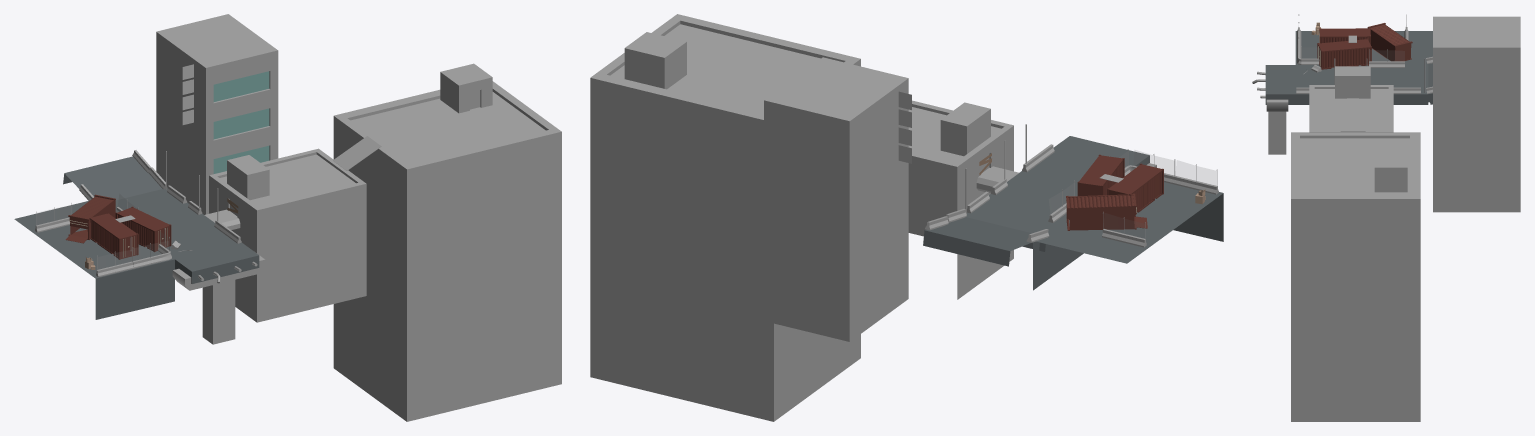
Rendered from bloco defend tut 2.fbx.
3 views of the same model, side by side, from view 1: azimuth 30°, elevation 25°; view 2: azimuth 150°, elevation 25°; view 3: azimuth 270°, elevation 25° (orthographic). The views are drawn at different scales.
Parts seen in each view (by area): view 1: pCube77, pCube86, polySurface85, polySurface34, pCube85, pCube82, polySurface86, pCube149, pCube95, pCube148, teto_container7 (×2), pCube94 (+5 smaller); view 2: pCube77, pCube86, polySurface34, pCube85, polySurface85, pCube82, polySurface86, pCube149, pCube148, teto_container7 (×2), pPlane17, polySurface17 (+5 smaller); view 3: pCube77, pCube86, pCube85, polySurface85, polySurface34, pCube149, pCube148, teto_container7 (×2), pCube95, parede_frente7, polySurface38, teto_container6 (+2 smaller).
Boxes of the visible parts, x1=… form: pCube77: x1=333, y1=81, x2=561, y2=421; pCube86: x1=156, y1=14, x2=278, y2=214; polySurface85: x1=209, y1=148, x2=366, y2=322; polySurface34: x1=14, y1=201, x2=174, y2=319; pCube85: x1=115, y1=188, x2=259, y2=283; pCube82: x1=63, y1=156, x2=162, y2=200; polySurface86: x1=209, y1=175, x2=256, y2=322; pCube149: x1=440, y1=63, x2=492, y2=113; pCube95: x1=202, y1=280, x2=235, y2=344; pCube148: x1=227, y1=155, x2=269, y2=200; teto_container7 (×2): x1=90, y1=207, x2=169, y2=239; pCube94: x1=172, y1=255, x2=265, y2=290; pCube77: x1=590, y1=14, x2=860, y2=421; pCube86: x1=764, y1=57, x2=908, y2=341; polySurface34: x1=1033, y1=182, x2=1223, y2=290; pCube85: x1=966, y1=136, x2=1149, y2=245; polySurface85: x1=908, y1=100, x2=1013, y2=236; pCube82: x1=923, y1=217, x2=1045, y2=266; polySurface86: x1=957, y1=126, x2=1013, y2=299; pCube149: x1=624, y1=32, x2=686, y2=89; pCube148: x1=940, y1=102, x2=990, y2=156; teto_container7 (×2): x1=1079, y1=155, x2=1162, y2=194; pPlane17: x1=1069, y1=206, x2=1134, y2=230; polySurface17: x1=1102, y1=213, x2=1146, y2=247; pCube77: x1=1291, y1=132, x2=1420, y2=421; pCube86: x1=1433, y1=16, x2=1520, y2=212; pCube85: x1=1265, y1=65, x2=1428, y2=104; polySurface85: x1=1309, y1=85, x2=1393, y2=132; polySurface34: x1=1295, y1=31, x2=1432, y2=102; pCube149: x1=1374, y1=153, x2=1407, y2=192; pCube148: x1=1335, y1=66, x2=1370, y2=98; teto_container7 (×2): x1=1318, y1=28, x2=1370, y2=52; pCube95: x1=1268, y1=111, x2=1286, y2=154; parede_frente7: x1=1323, y1=48, x2=1369, y2=68; polySurface38: x1=1369, y1=49, x2=1404, y2=67; teto_container6: x1=1369, y1=27, x2=1395, y2=61.
Bounding box in the file's own units: 9946 × 6654 × 5650.
